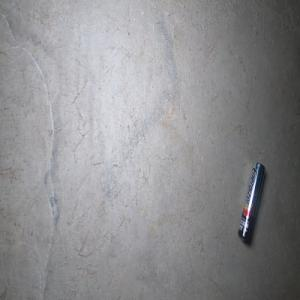Battery: (237, 161, 265, 244)
